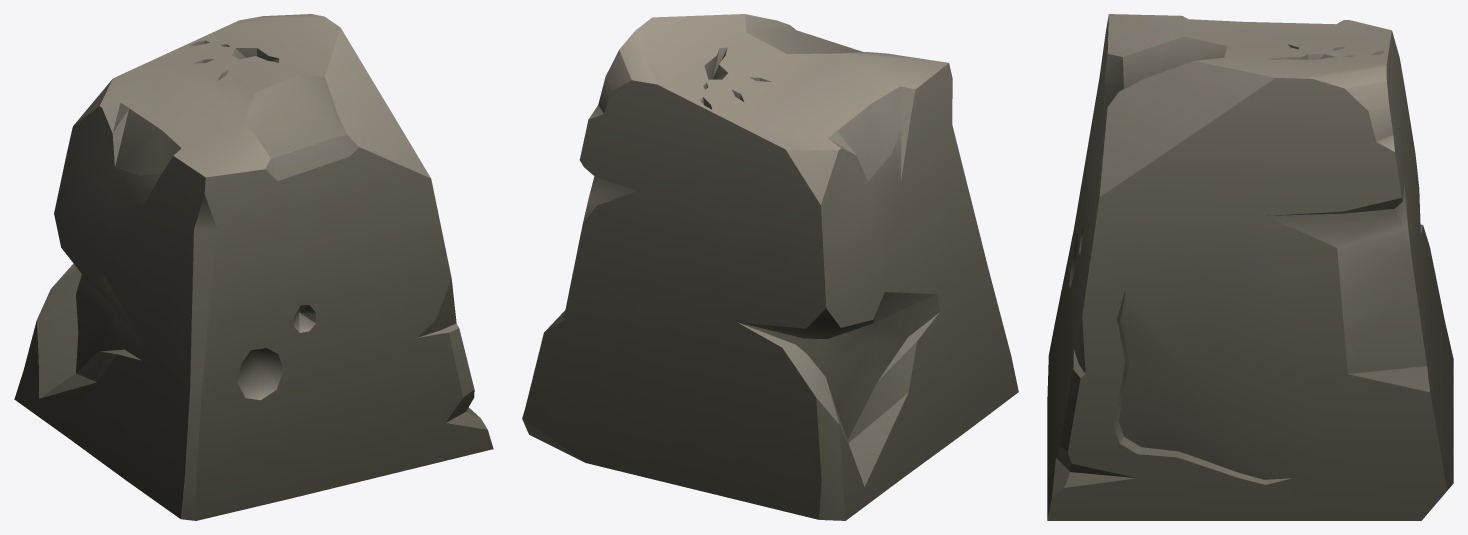
The model's file is Obelisk_1C.fbx.
3 views of the same model, side by side, from view 1: azimuth 30°, elevation 25°; view 2: azimuth 150°, elevation 25°; view 3: azimuth 270°, elevation 25° (orthographic). The views are drawn at different scales.
Parts seen in each view (by area): view 1: Obelisk_1C; view 2: Obelisk_1C; view 3: Obelisk_1C.
Boxes of the visible parts, <box> form: Obelisk_1C: <box>14,14,493,520</box>; Obelisk_1C: <box>522,14,1018,520</box>; Obelisk_1C: <box>1047,14,1453,520</box>.
Size of the model in its own units: 273 by 307 by 273.
